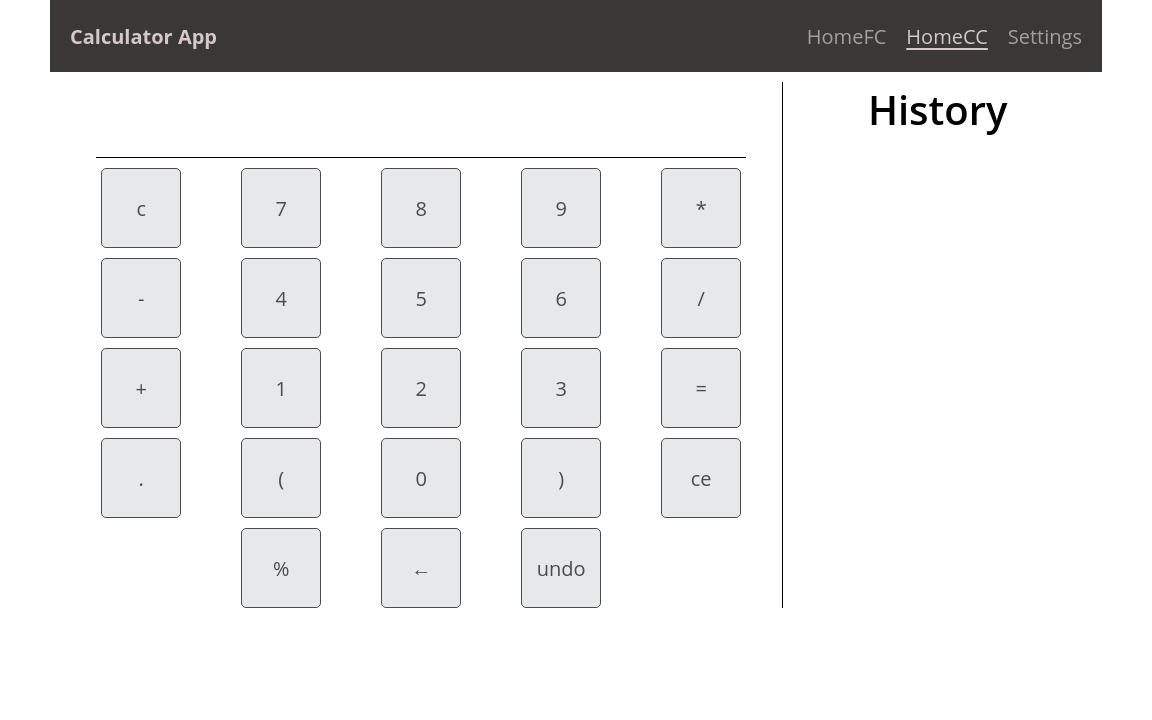
Test: test calcurator app › testing CC subtract command
The width and height of the screenshot is (1152, 720).
expect the element with test id "keypadCC" is shown: met, box 60,158 -> 782,608
Click the text "9".
click(561, 208)  # box 521,168 -> 601,248
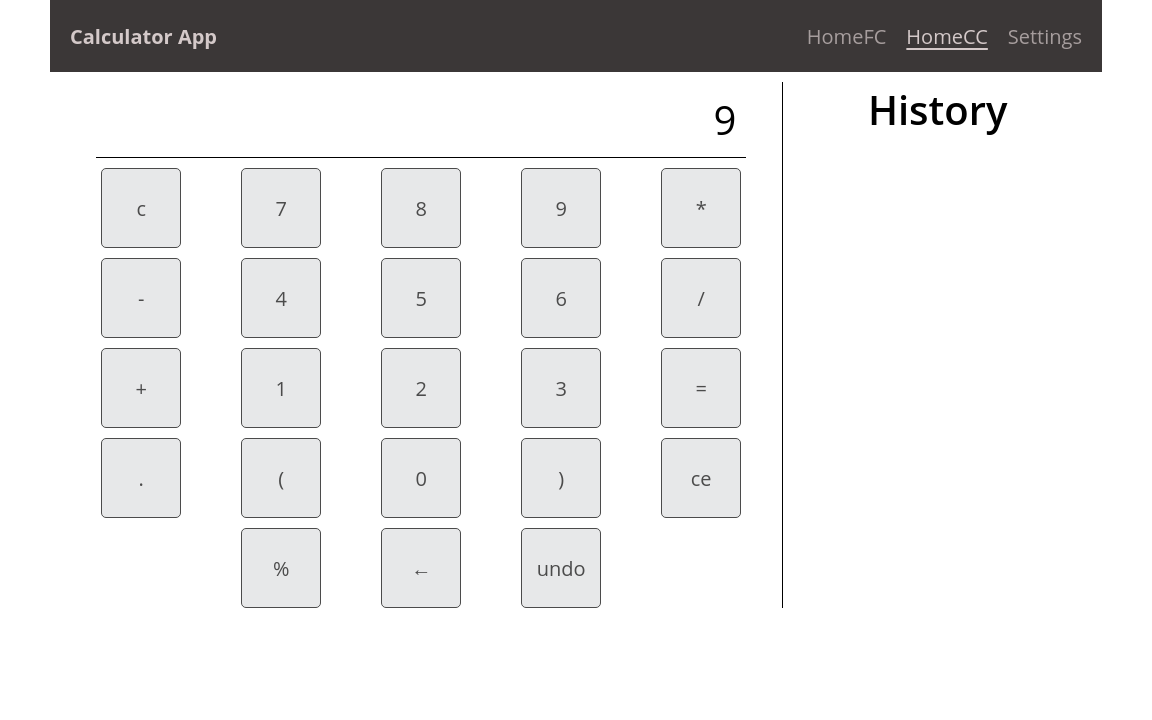
expect the element with test id "keypadCC" is shown: met, box 60,158 -> 782,608
Click the text "-".
click(141, 298)  # box 101,258 -> 181,338
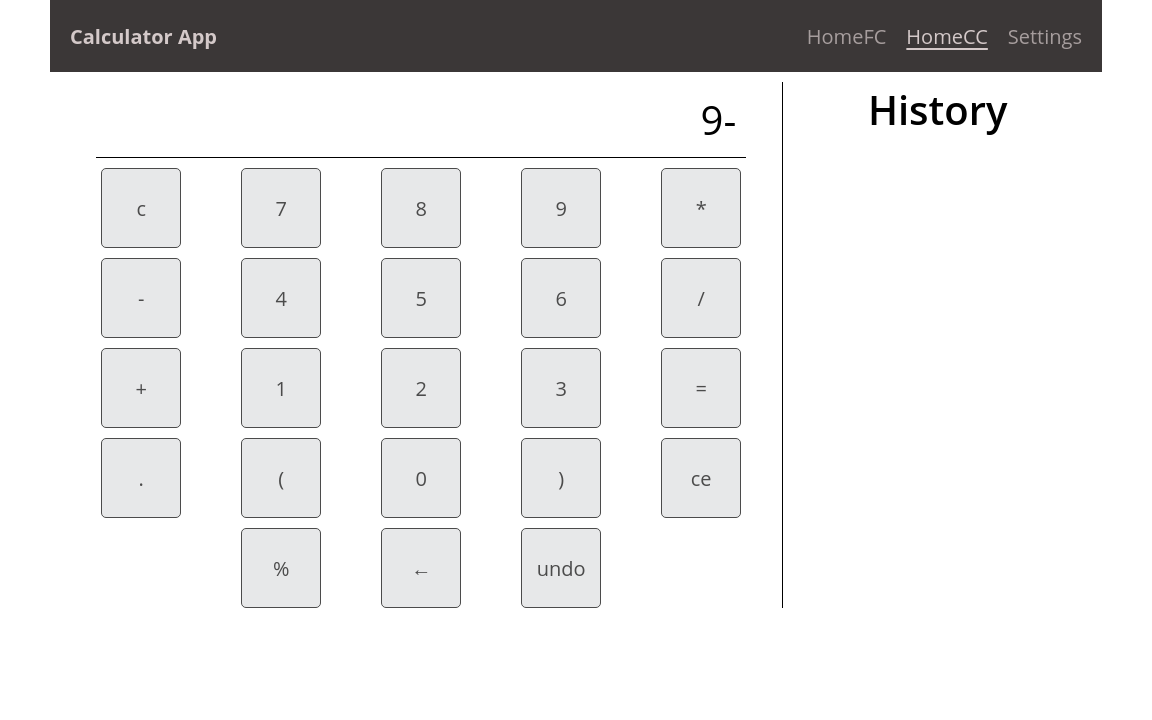
expect the element with test id "keypadCC" is shown: met, box 60,158 -> 782,608
Click the text "8".
click(421, 208)  # box 381,168 -> 461,248
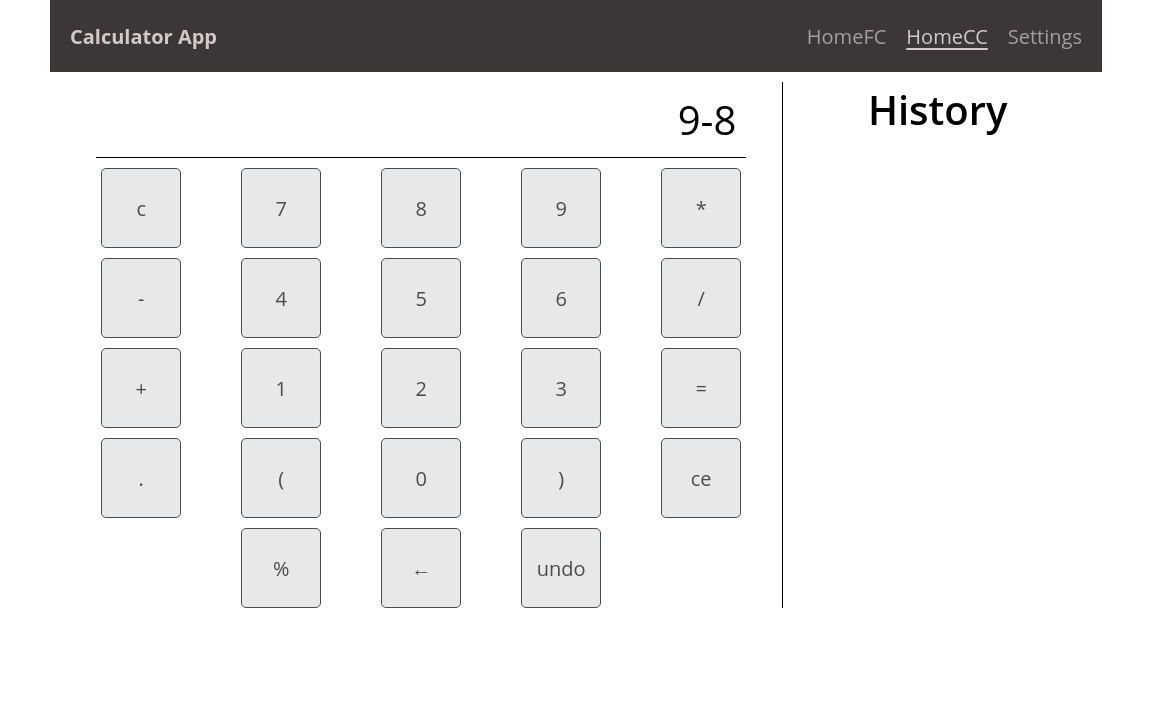
expect the element with test id "keypadCC" is shown: met, box 60,158 -> 782,608
Click the text "=".
click(701, 388)  # box 661,348 -> 741,428
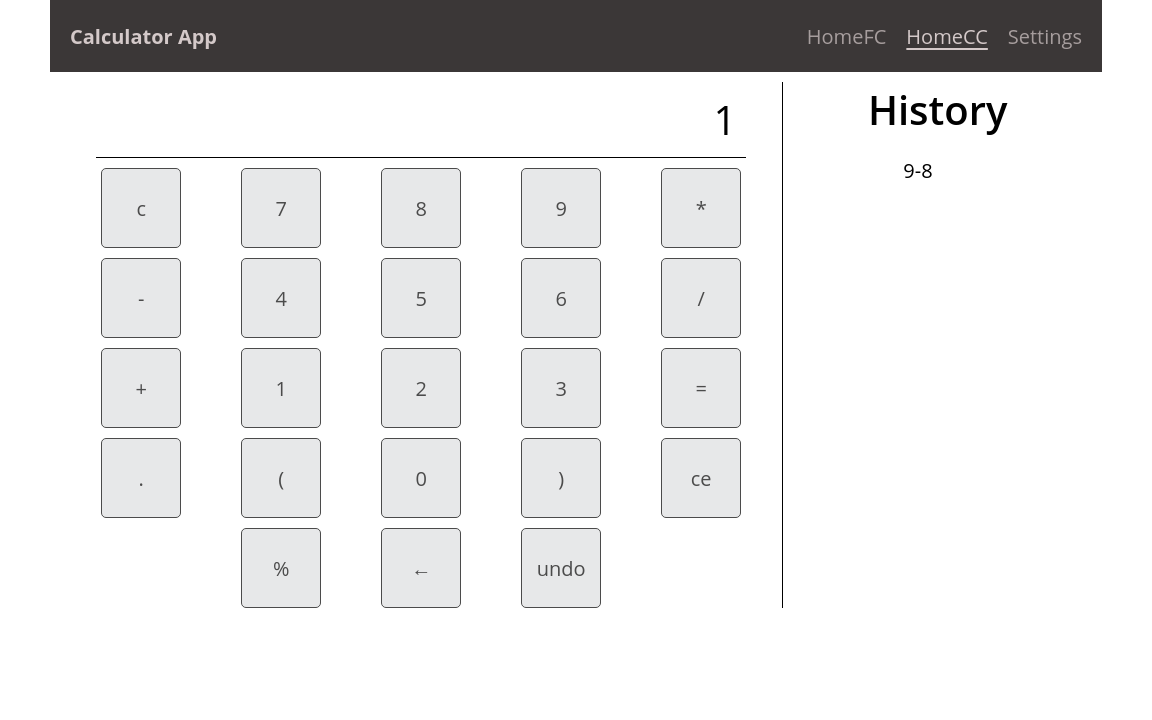
expect the element with test id "historyCC" is shown: met, box 868,82 -> 1008,184
expect the field with test id "displayCC" holds "1": met, box 96,82 -> 746,157
expect the text "9-8" is shown: met, box 903,157 -> 933,184
